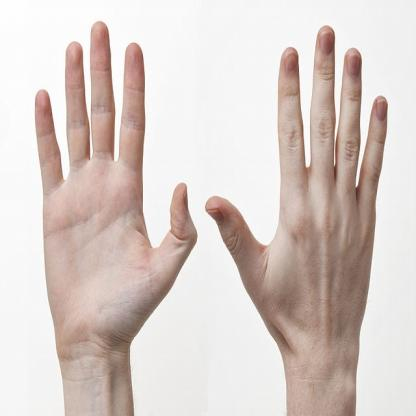palm: (195, 8, 407, 381), (15, 22, 197, 357)
